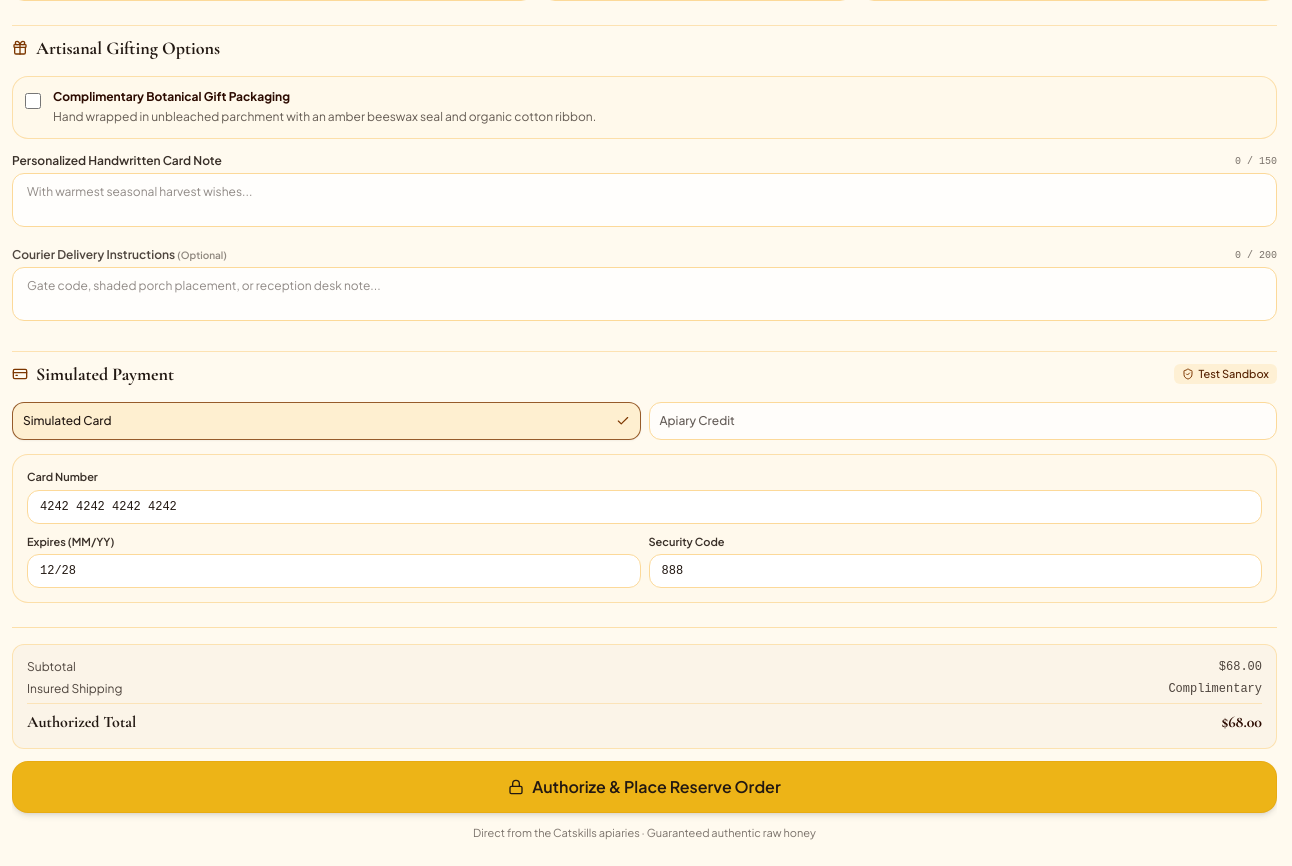
Test case: CheckoutForm Component (satisfies AC-4, AC-5, AC-6, AC-7) › displays accessible validation error messages when submitted with invalid fields (AC-6)
(page scrolled)
Step 1. Click the button "Authorize & Place Reserve Order" → (644, 787), box [12,761,1277,813]
(page scrolled)
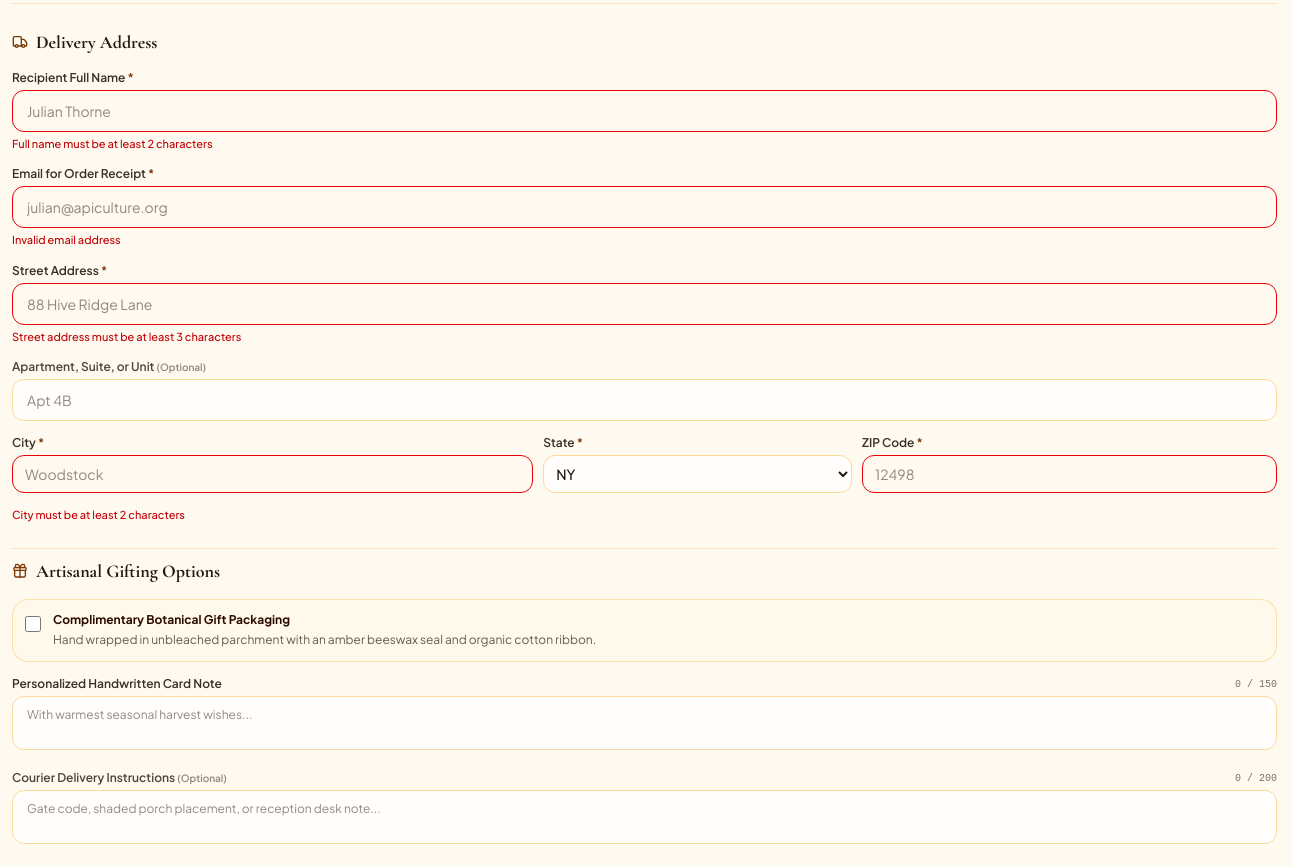
Expected: the text "Full name must be at least 2 characters" is shown, [12,136,212,150]
Expected: the text "Invalid email address" is shown, [12,233,121,246]
Expected: the text "Street address must be at least 3 characters" is shown, [12,330,241,342]
